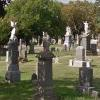Statue: (32, 22, 60, 90)
